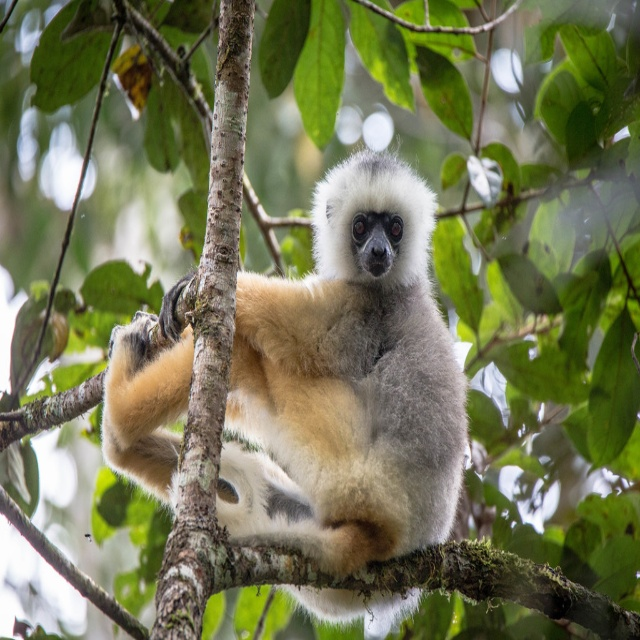Monkey: (97, 135, 469, 634)
